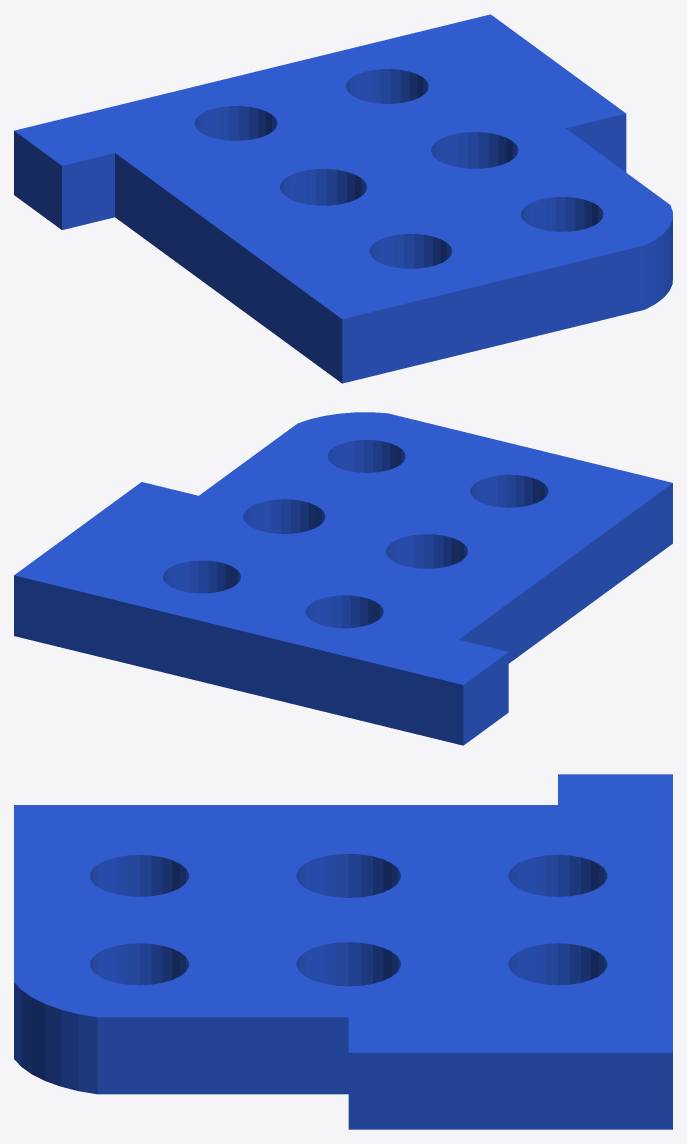
The picture shows the model from 3 angles, top to bottom: view 1: azimuth 30°, elevation 25°; view 2: azimuth 150°, elevation 25°; view 3: azimuth 270°, elevation 25°; orthographic projection. The views are drawn at different scales.
Visible parts, largest first — view 1: 4; view 2: 4; view 3: 4.
Part boxes in pixels (<box>): 4: <box>14,14,672,383</box>; 4: <box>14,412,672,745</box>; 4: <box>14,774,672,1129</box>.
Size of the model in its own units: 0.9841 by 0.127 by 0.9841.
